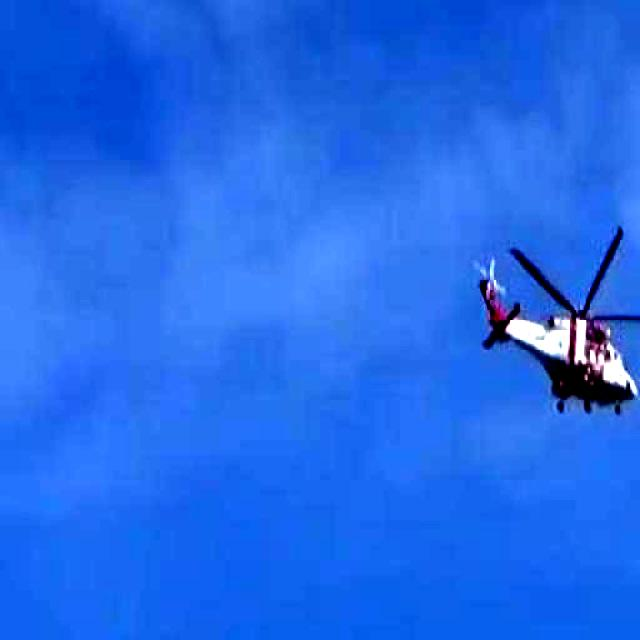drone: (419, 131, 640, 492)
